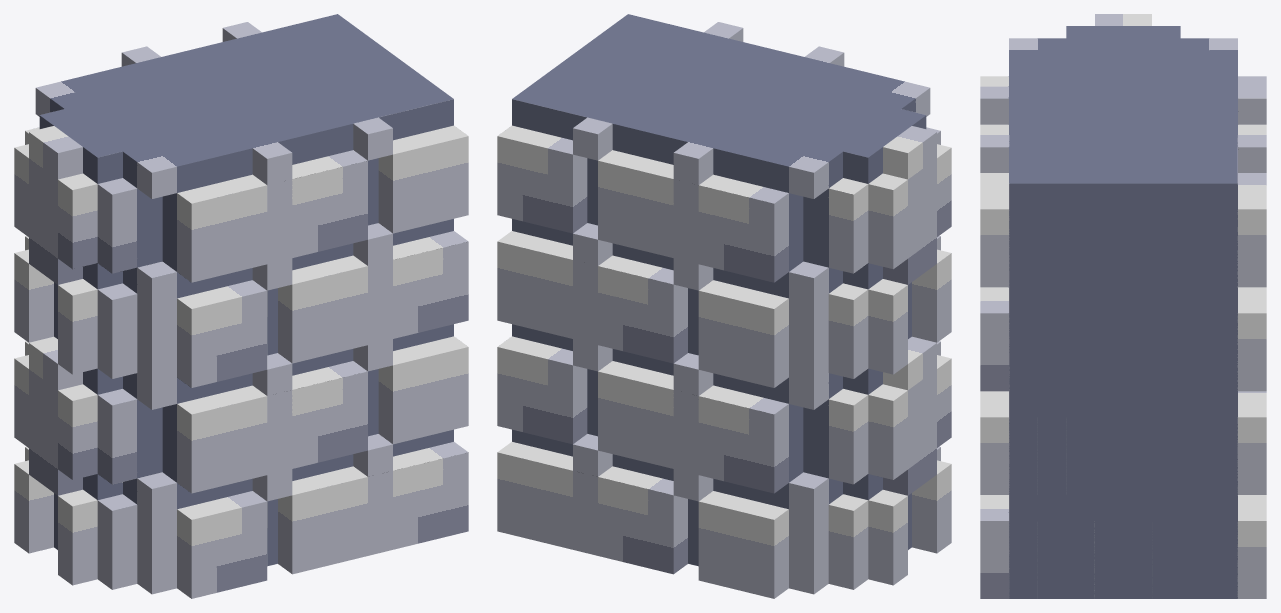
File: endWall.obj
3 renders of one model, left to right at view 1: azimuth 30°, elevation 25°; view 2: azimuth 150°, elevation 25°; view 3: azimuth 270°, elevation 25°, orthographic.
Visible parts, largest first — view 1: endWall; view 2: endWall; view 3: endWall.
Boxes of the visible parts, left/top/right/bottom form: endWall: left=14, top=14, right=468, bottom=598; endWall: left=497, top=14, right=951, bottom=598; endWall: left=980, top=14, right=1266, bottom=598.
Size of the model in its own units: 14 by 16 by 10.
1 material, 1 textured.
